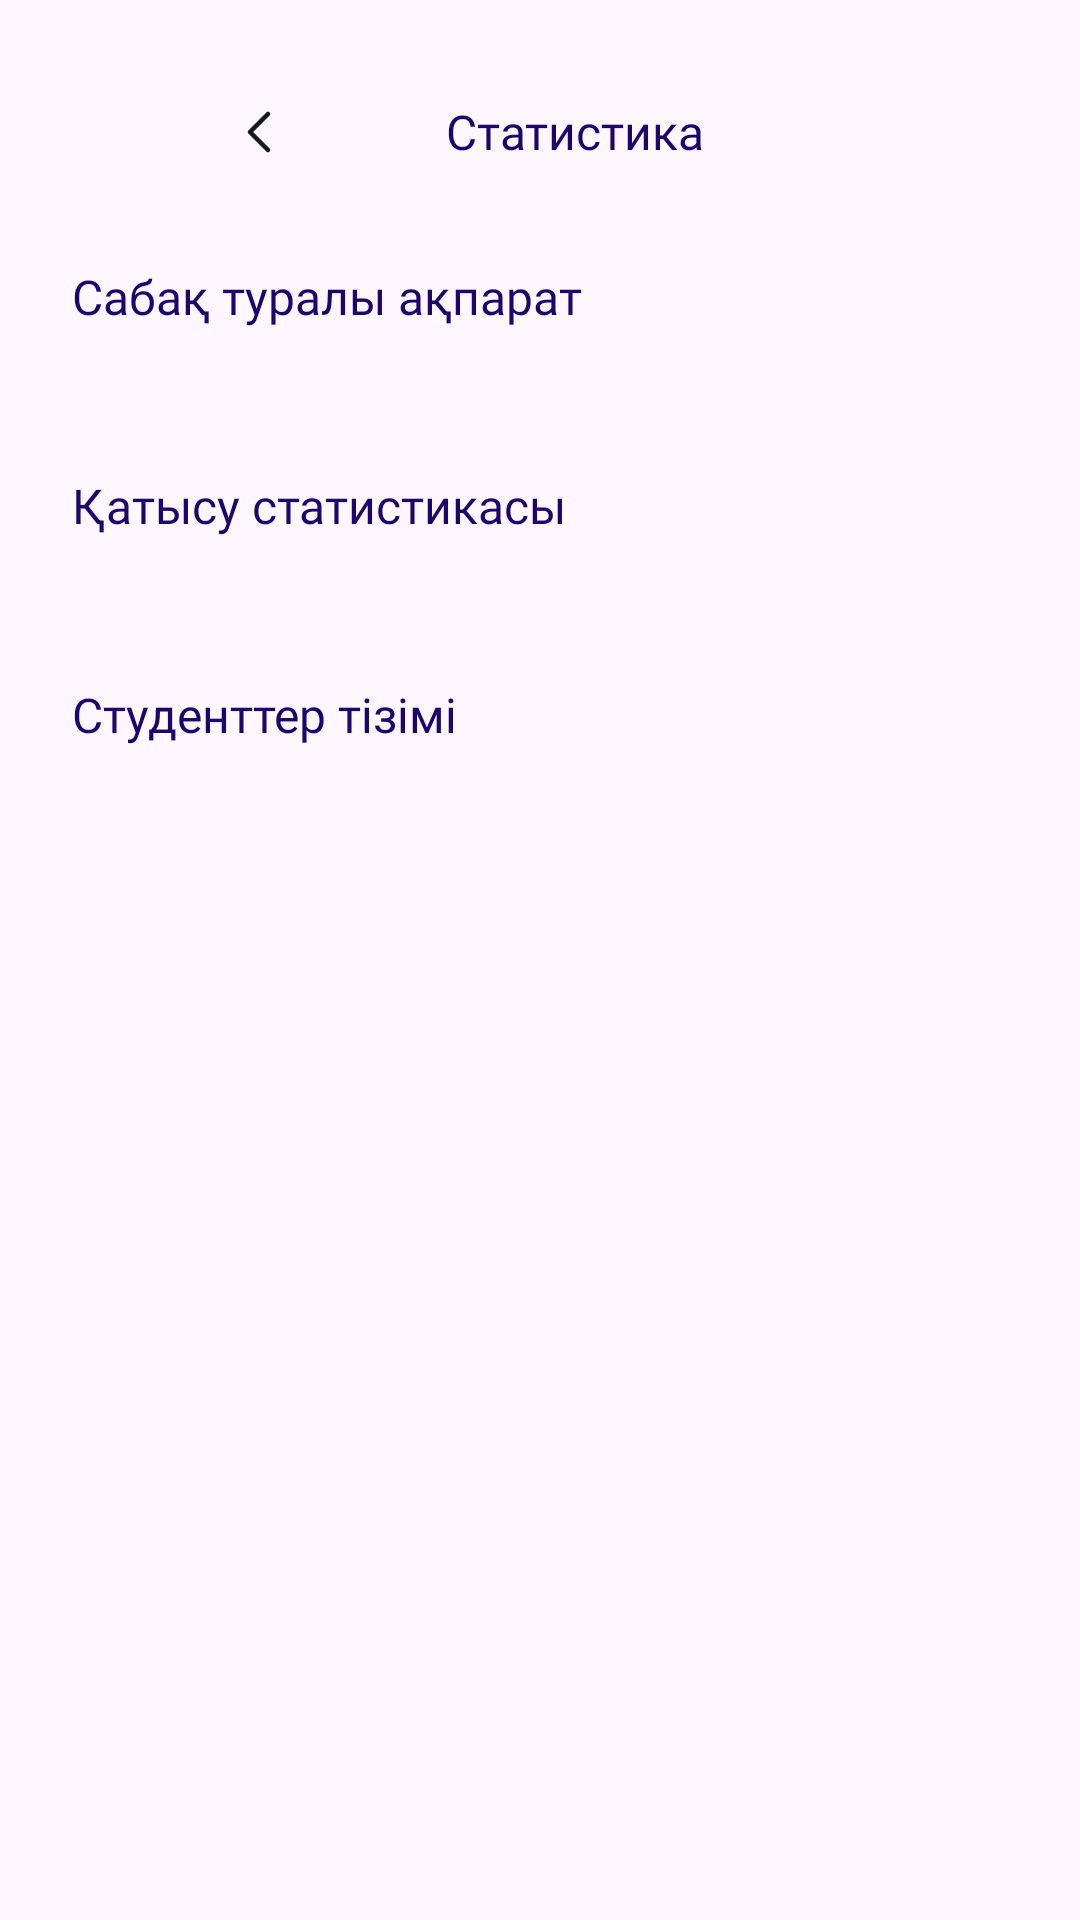

Where to tap for icons on this 1080×1920 app screen, as point (x, y):
back: point (259, 132)
